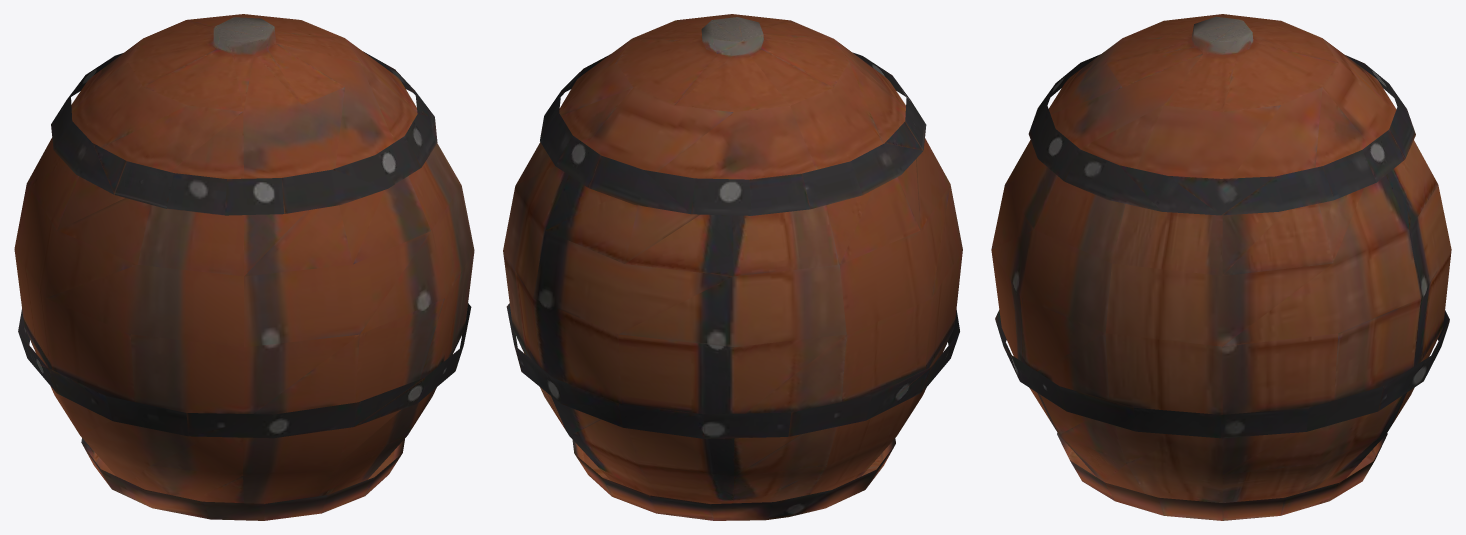
Rendered from barrel.glb.
3 views of the same model, side by side, from view 1: azimuth 30°, elevation 25°; view 2: azimuth 150°, elevation 25°; view 3: azimuth 270°, elevation 25° (orthographic).
Size of the model in its own units: 0.9263 by 0.9526 by 0.9302.
Materials: 1 (1 with a texture image).
